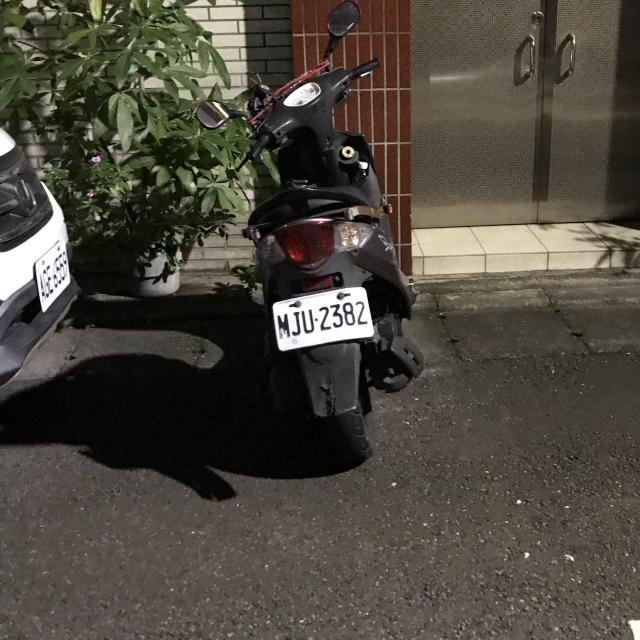W: (264, 286, 378, 352), (23, 230, 83, 318)
